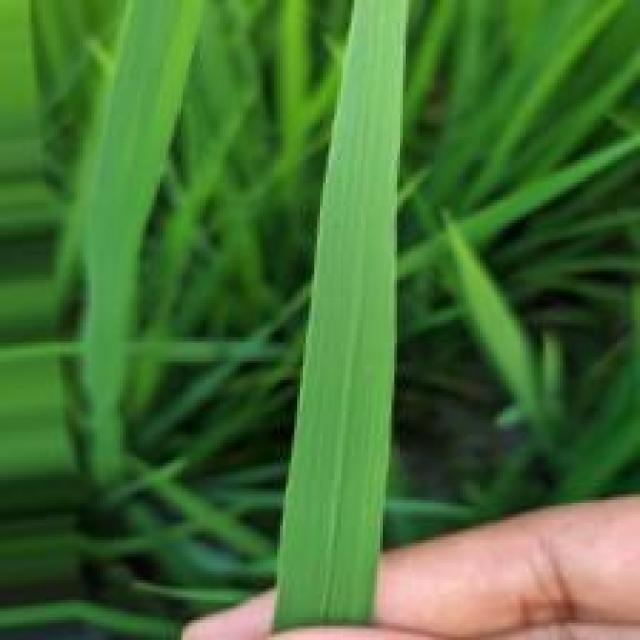HealthyLeaf: (281, 3, 405, 621)
